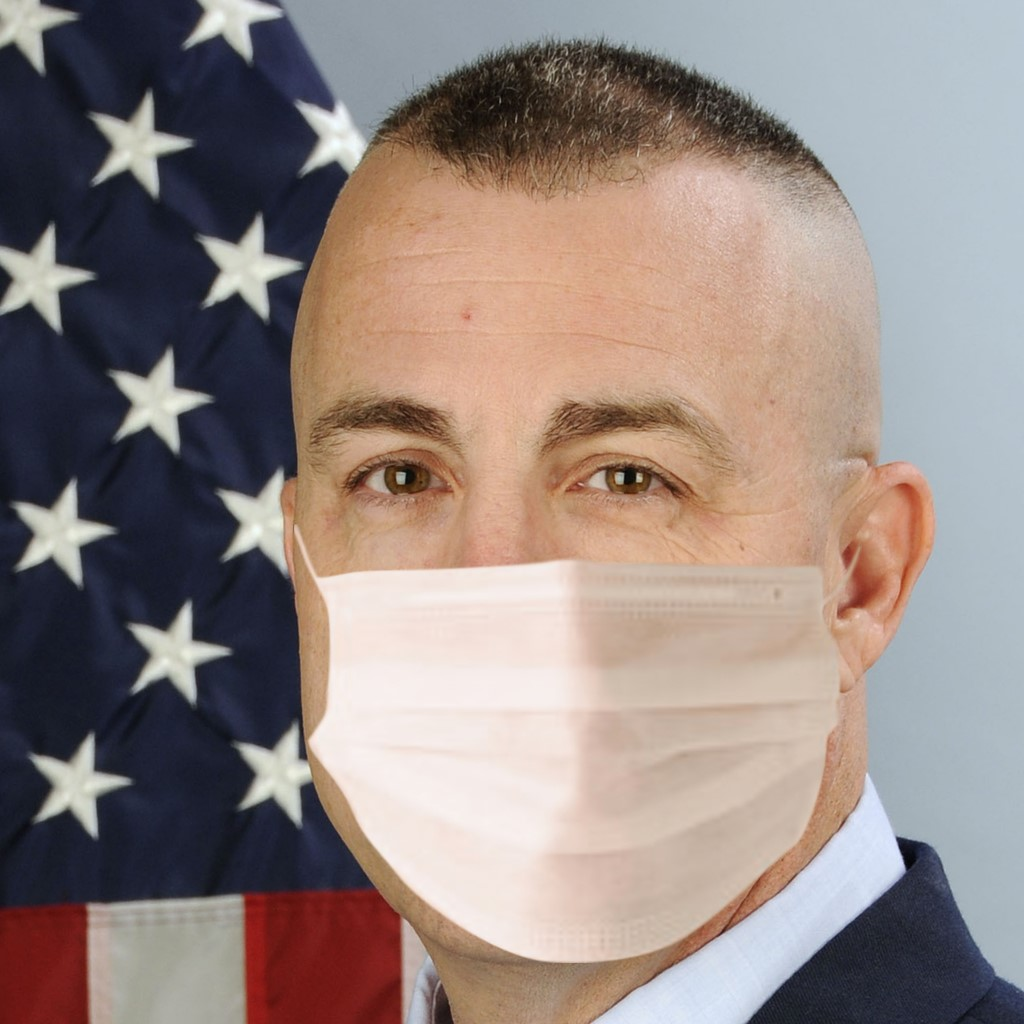con_mascara: (288, 100, 877, 978)
